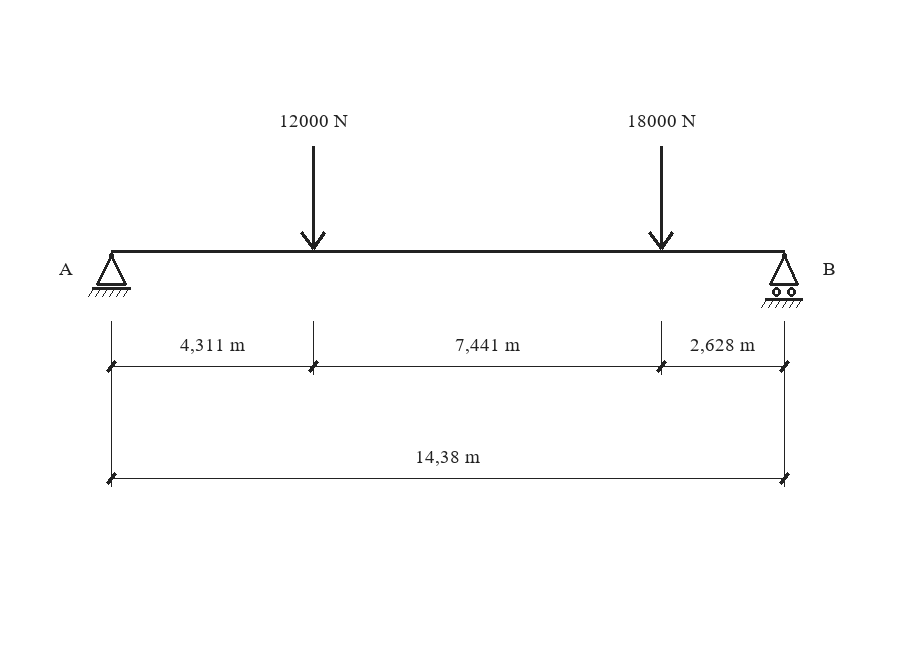pin_support: (88, 253, 131, 297)
point_load: (300, 146, 326, 250), (648, 146, 674, 250)
roller_support: (761, 253, 803, 308)
